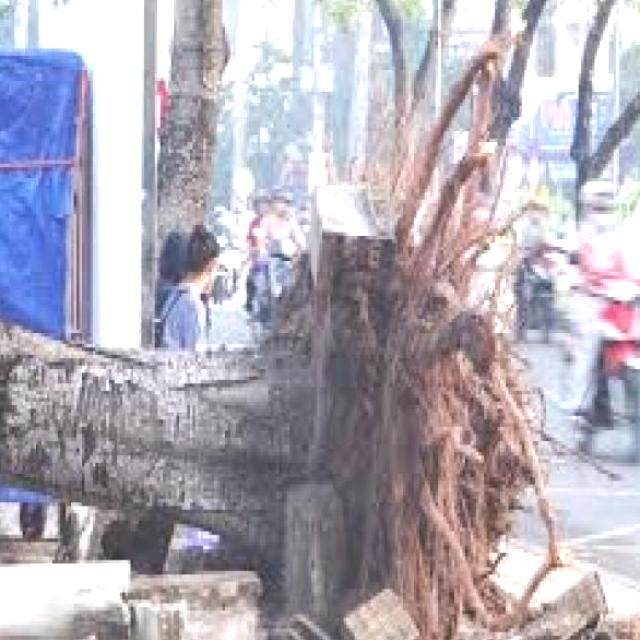fallen_object: (0, 162, 582, 612)
